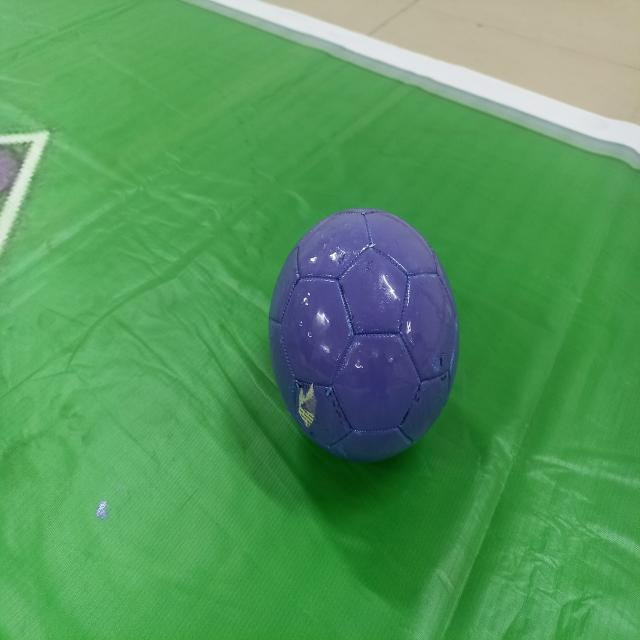purple_ball: (268, 213, 461, 460)
